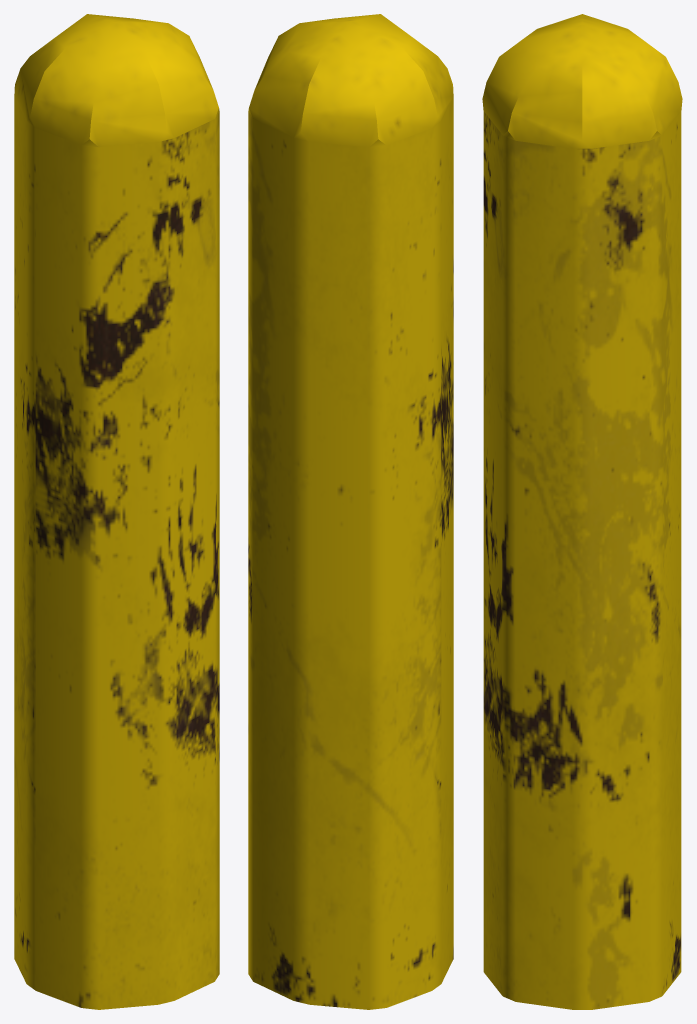
The model's file is Pole.fbx.
3 views of the same model, side by side, from view 1: azimuth 30°, elevation 25°; view 2: azimuth 150°, elevation 25°; view 3: azimuth 270°, elevation 25° (orthographic).
Parts seen in each view (by area): view 1: roadpole; view 2: roadpole; view 3: roadpole.
Boxes of the visible parts, x1,y1,x2,y2 form: roadpole: (14, 14, 219, 1009); roadpole: (248, 14, 453, 1009); roadpole: (482, 14, 682, 1009).
Bounding box in the file's own units: 0.1006 × 0.5244 × 0.1006.
